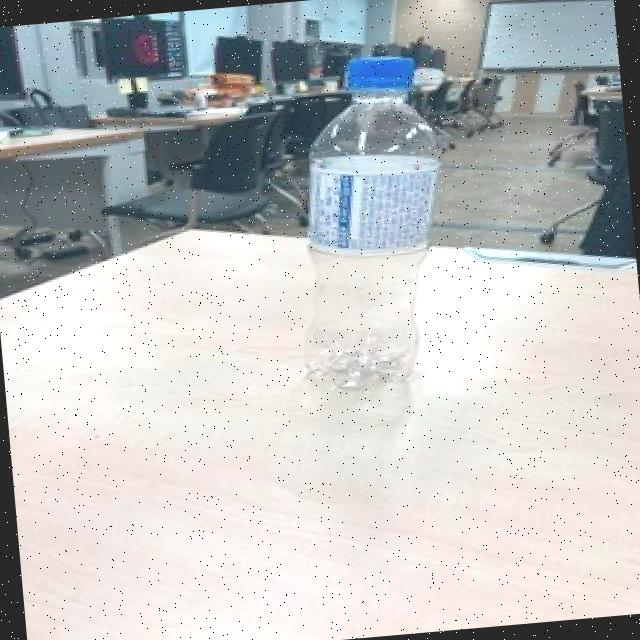bottle: (274, 45, 463, 400)
cap: (338, 54, 420, 102)
label: (288, 158, 451, 264)
